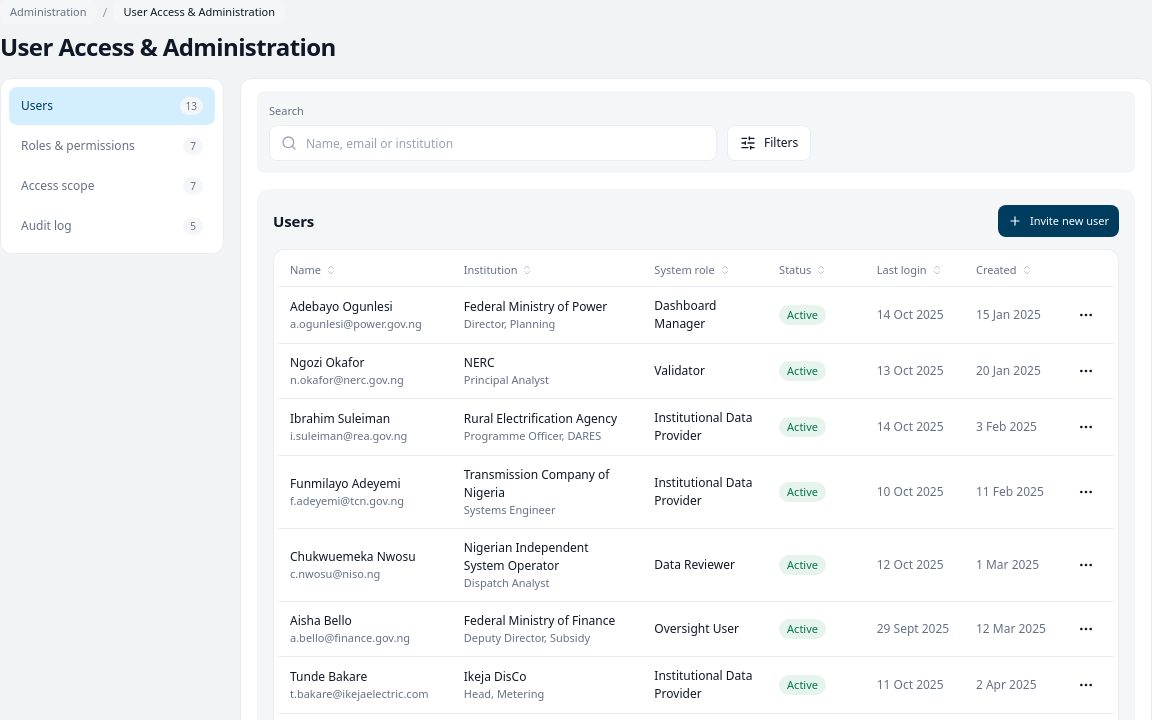
Test: AdministrationPage › edits an existing user’s roles and institution in one dialog
Expected: the heading "User Access & Administration" is shown, [0,30,336,63]
Click the button named "Actions for " at (1086, 315), box [1070,299,1102,331]
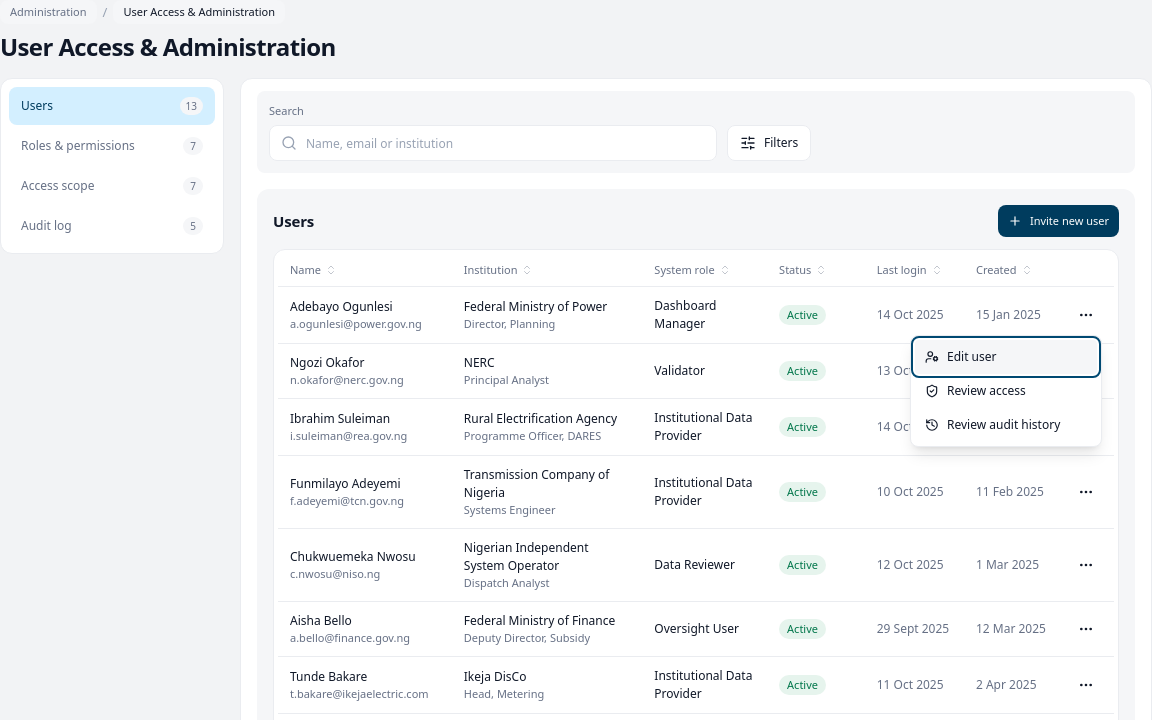
Click the menu item "Edit user" at (1006, 357), box [915,340,1097,374]
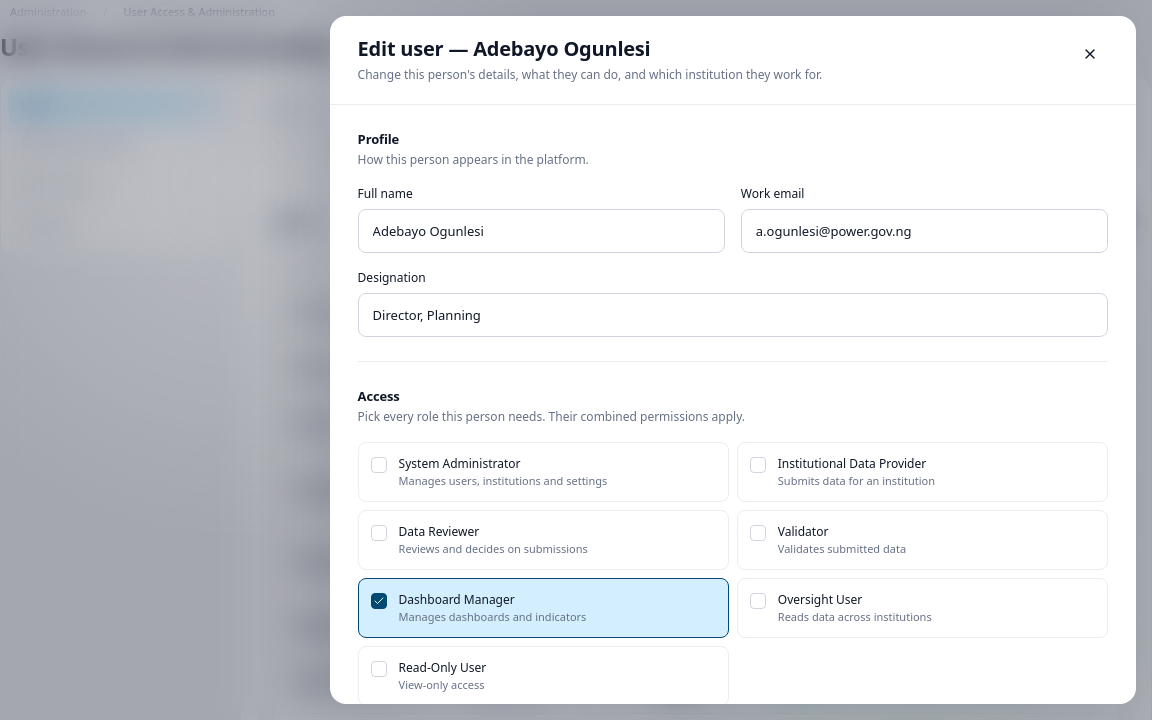
Click the checkbox labelled "Validator" at (803, 532), box [737,510,1108,570]
(page scrolled)
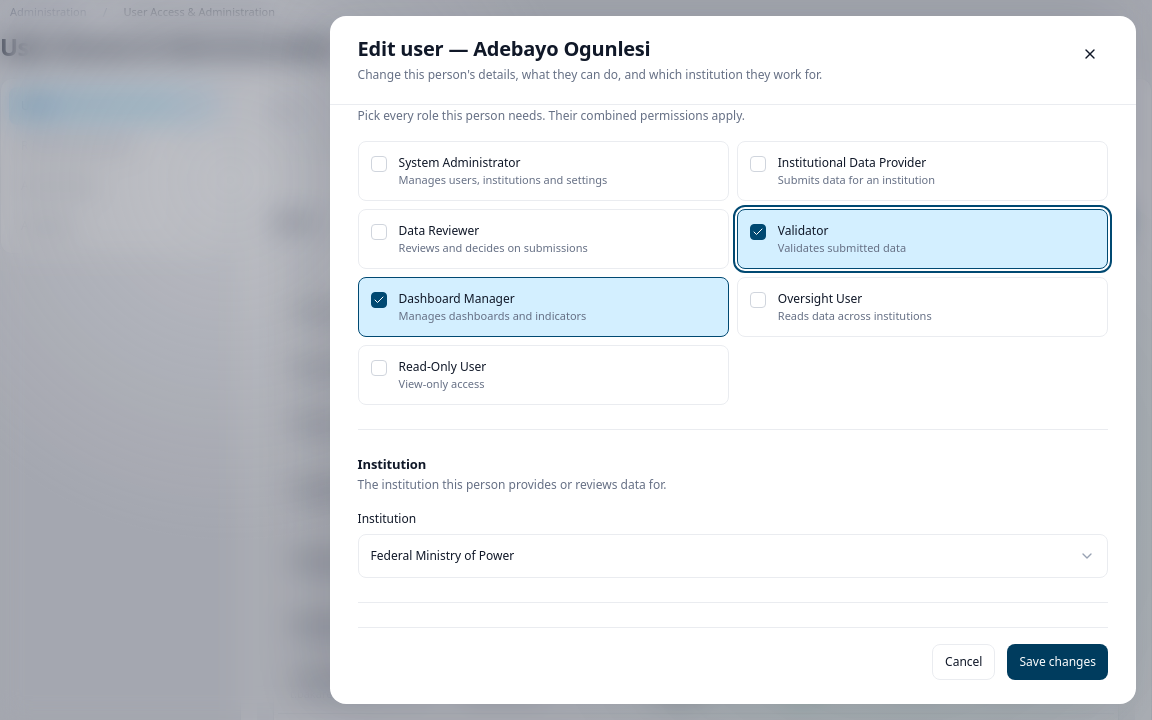
Click the button "Save changes" at (1058, 662), box [1008,644,1108,680]
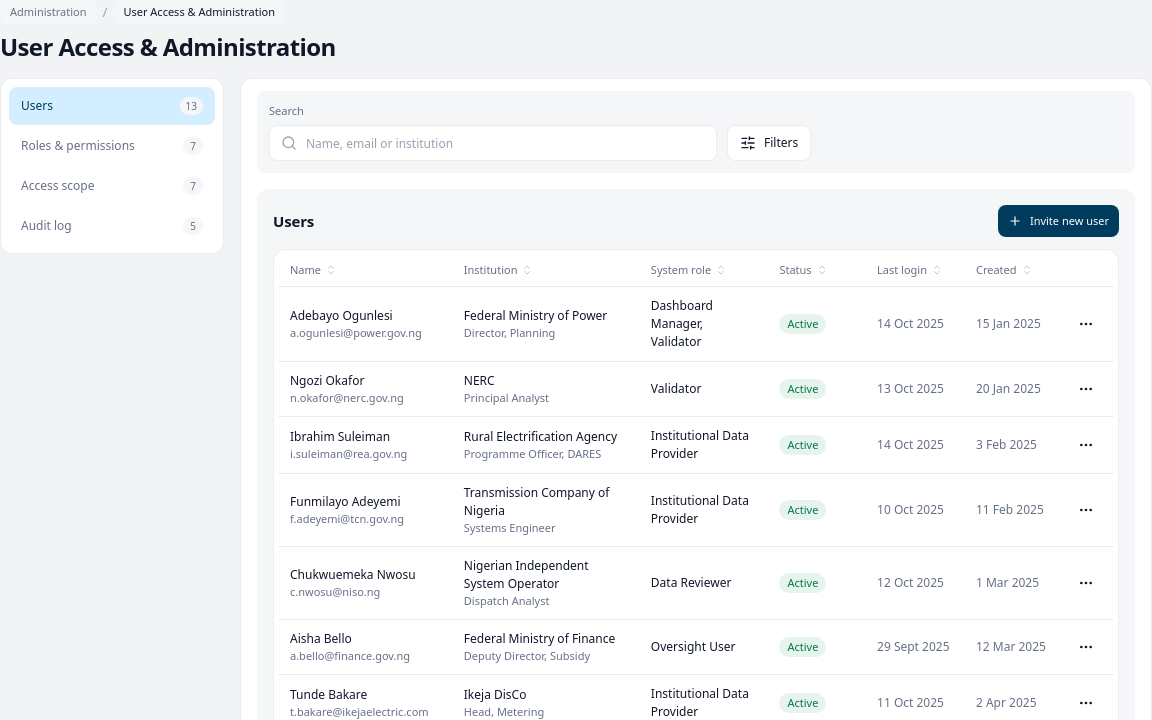
Now the heading "Edit user" is gone
